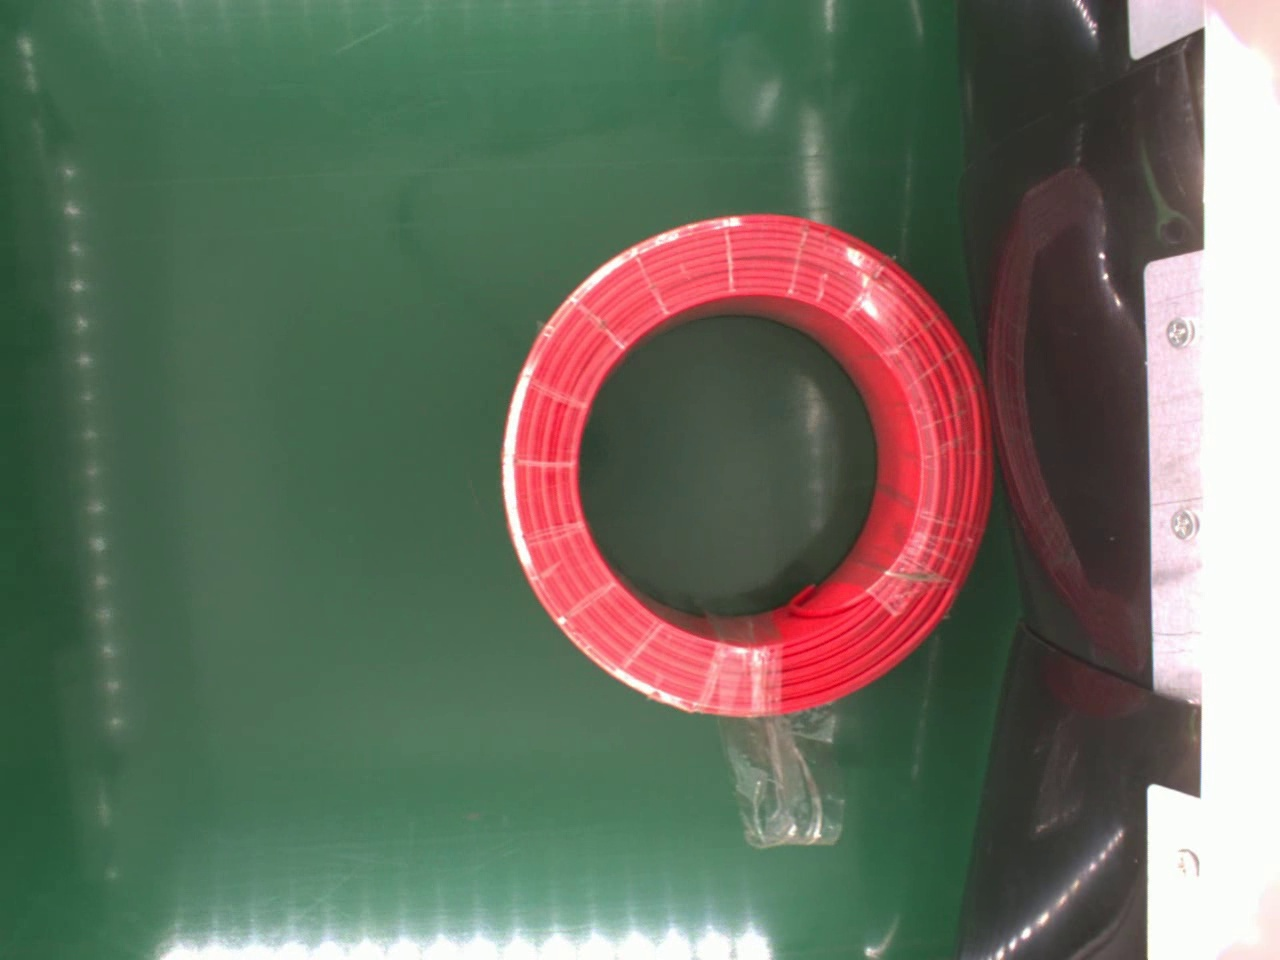red: (496, 211, 994, 719)
